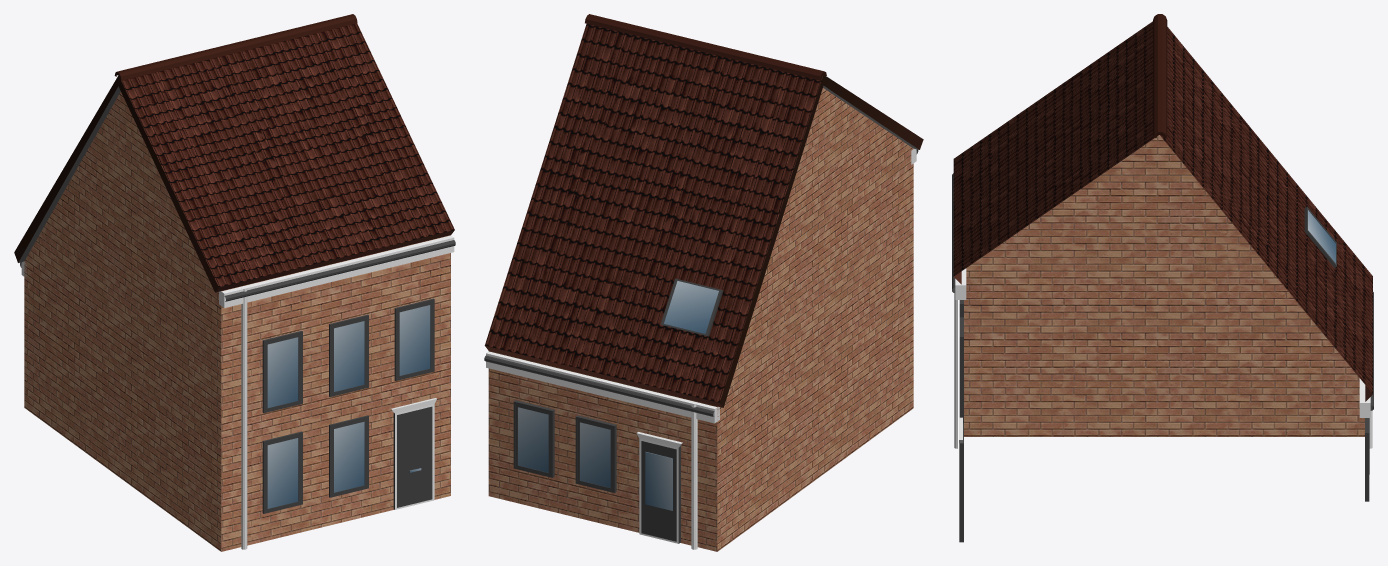
File: It_Buthus_3.fbx
The picture shows the model from 3 angles, left to right: view 1: azimuth 30°, elevation 25°; view 2: azimuth 150°, elevation 25°; view 3: azimuth 270°, elevation 25°; orthographic projection. The views are drawn at different scales.
Visible parts, largest first — view 1: It_Buthus_3; view 2: It_Buthus_3; view 3: It_Buthus_3.
Part boxes in pixels (x1,y1,x2,y2): It_Buthus_3: [14, 14, 455, 551]; It_Buthus_3: [484, 14, 923, 551]; It_Buthus_3: [952, 14, 1373, 542].
Bounding box in the file's own units: 622 × 1031 × 939.
